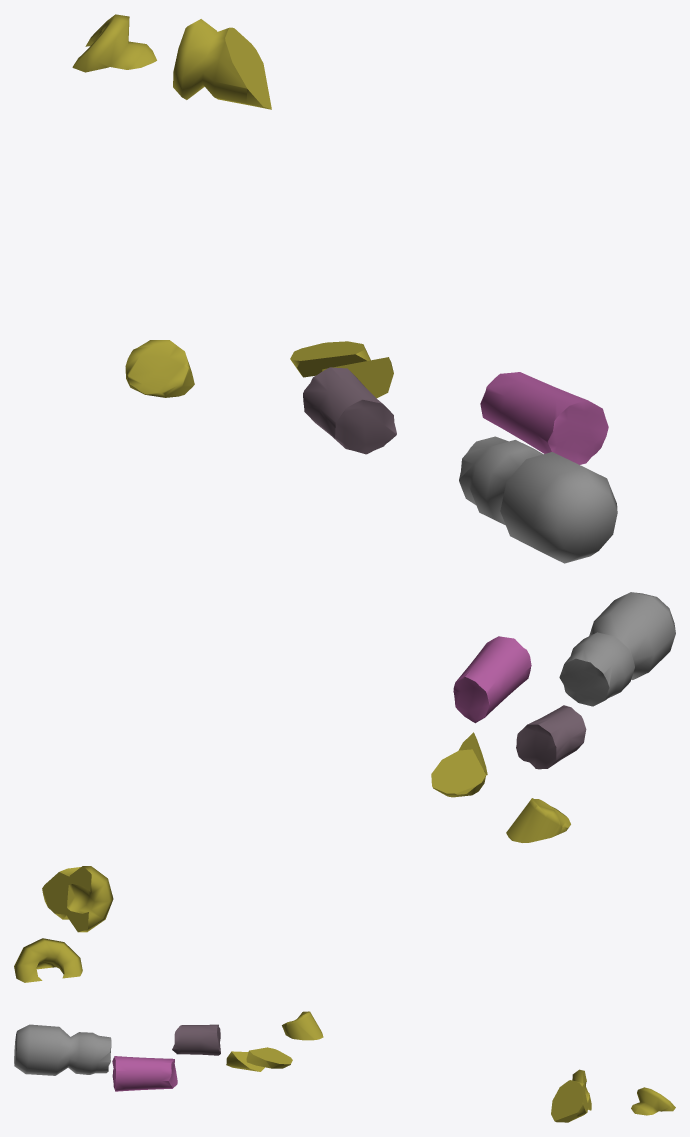
File: PillarFallTest.fbx
3 renders of one model, top to bottom at view 1: azimuth 30°, elevation 25°; view 2: azimuth 150°, elevation 25°; view 3: azimuth 270°, elevation 25°, orthographic. The views are drawn at different scales.
Visible parts, largest first — view 1: geo1; view 2: geo1; view 3: geo1.
Part boxes in pixels (x1=…): geo1: x1=72, y1=14, x2=617, y2=563; geo1: x1=14, y1=592, x2=675, y2=982; geo1: x1=14, y1=1011, x2=675, y2=1122.
Size of the model in its own units: 9.47 by 2.05 by 26.29.
